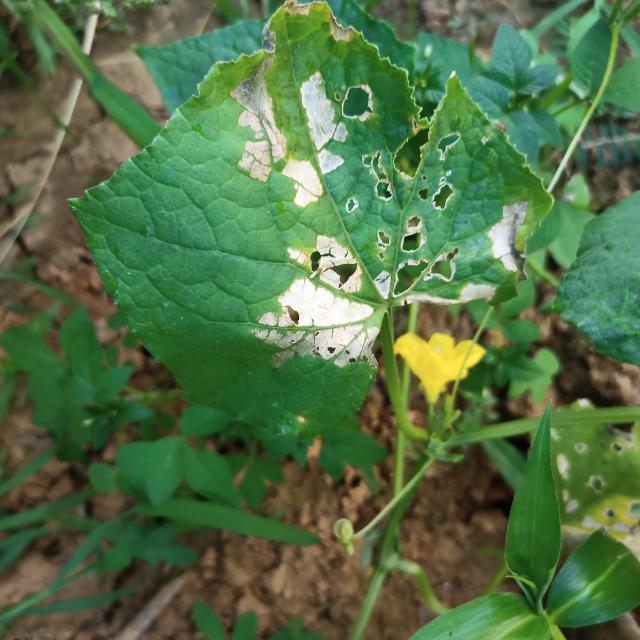disease_cucumber: (221, 7, 466, 234), (255, 204, 530, 390)
